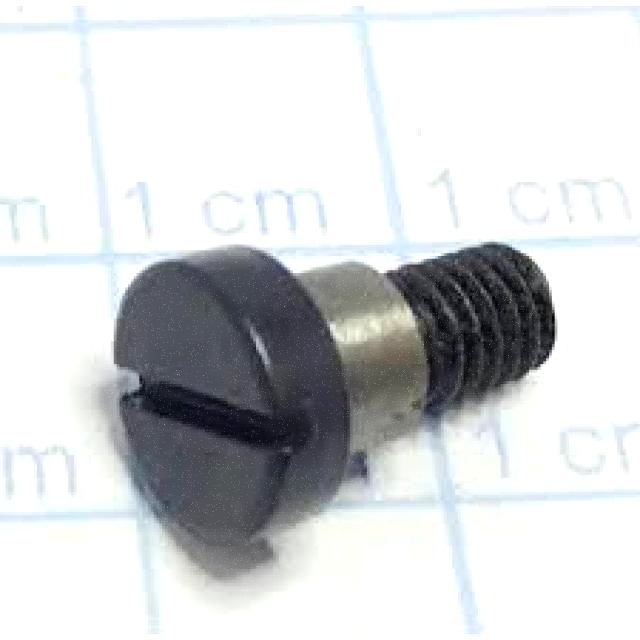duz: (111, 243, 347, 550)
